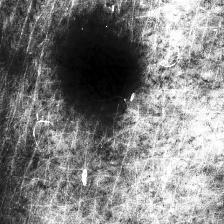Benign Marking or Mole: (59, 36, 136, 105)
